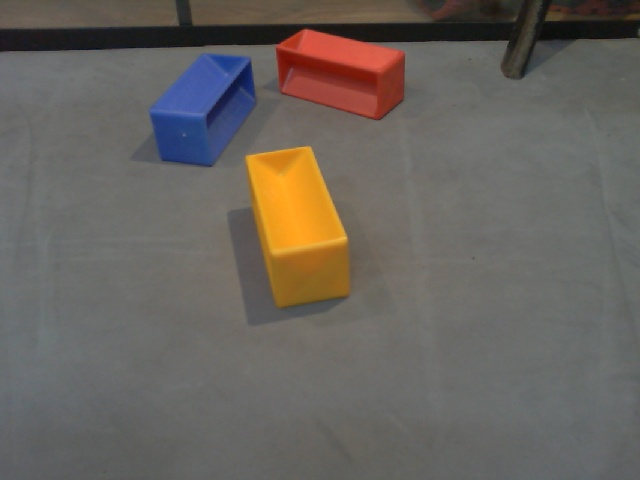BlueSample: (144, 49, 257, 169)
RedSample: (274, 25, 407, 123)
YellowSample: (243, 143, 354, 313)
